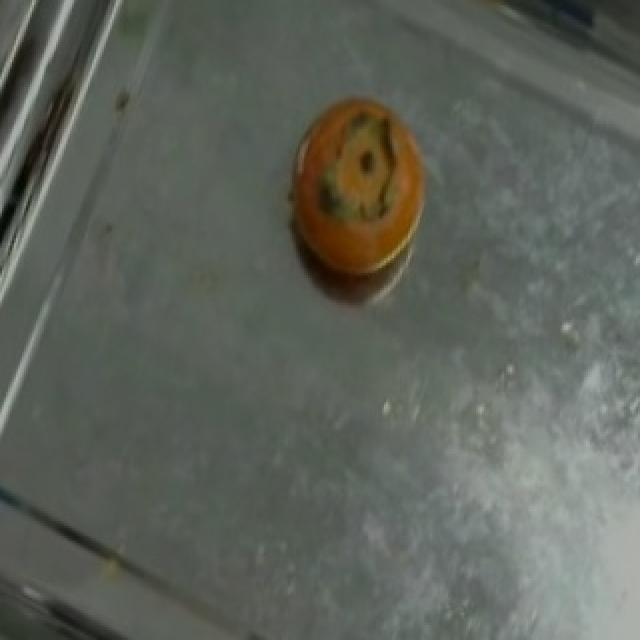Fruit: (268, 77, 442, 300)
